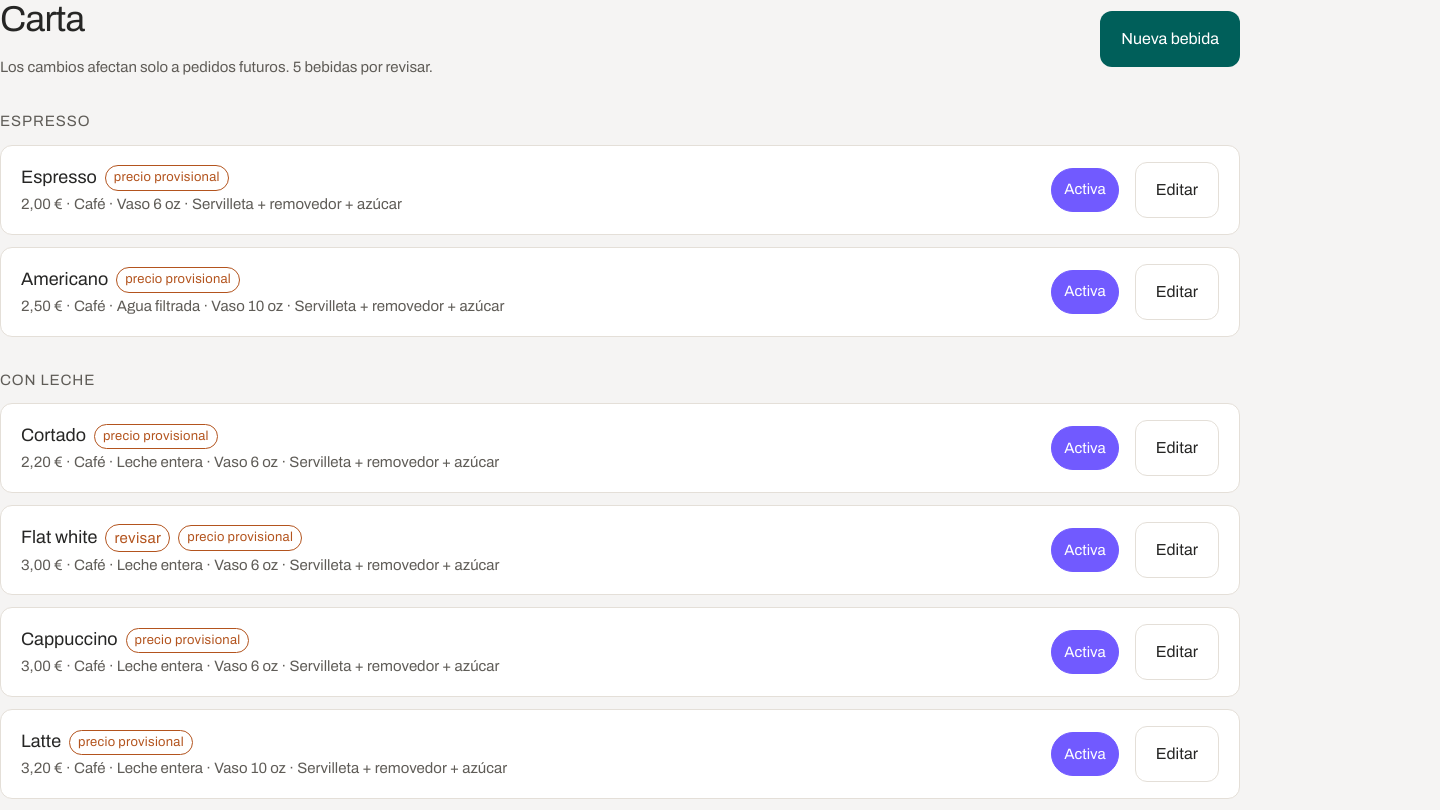
Test: Carta: la propuesta al crear una bebida › la vía sigue al método al crear, para que la hoja no se contradiga
The width and height of the screenshot is (1440, 810).
Expected: the heading "Carta" is shown, [0,0,84,39]
Click the button "Nueva bebida": (1170,39) [1100,11,1240,67]
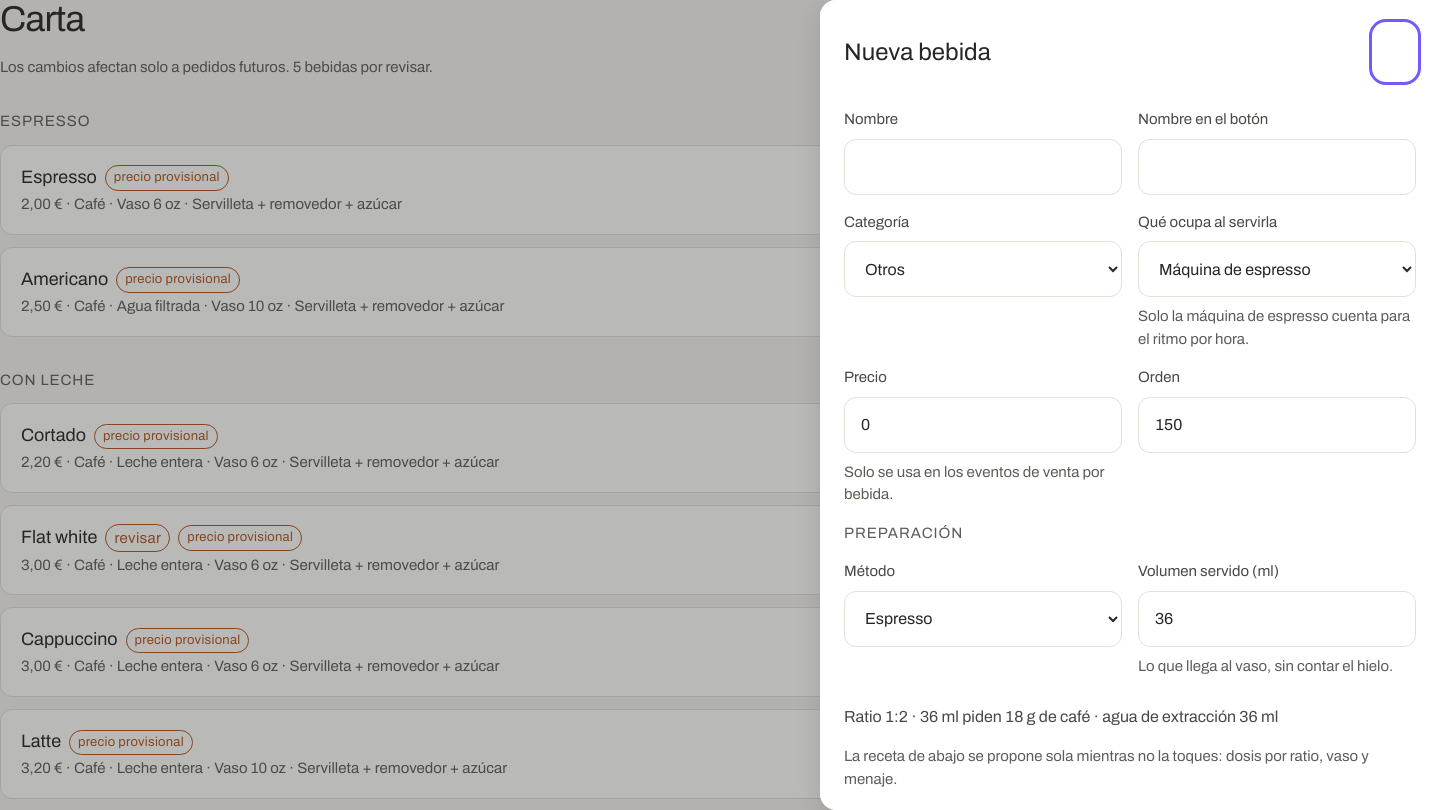
Expected: the heading "Preparación" is shown, [844,524,963,540]
Expected: the 2nd dropdown shows "Máquina de espresso", [1138,241,1416,297]
Select "Cold brew" in the dropdown labelled "Método": (983,618) [844,590,1122,646]
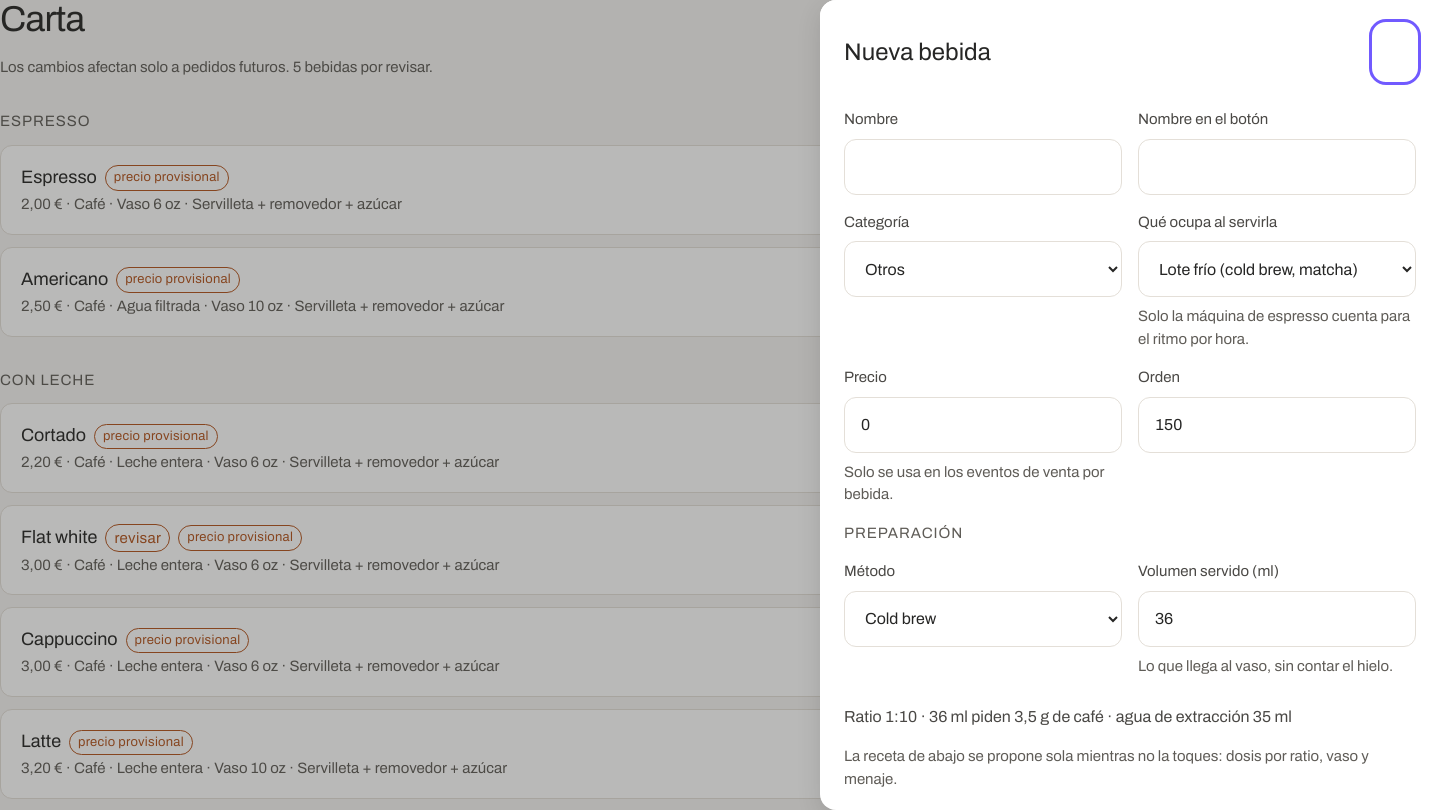
Expected: the 2nd dropdown shows "Lote frío (cold brew, matcha)"
Y en cuanto Nicolas la elige a mano, manda la suya.
Select "Máquina de espresso" in the 2nd dropdown: (1277,269) [1138,241,1416,297]
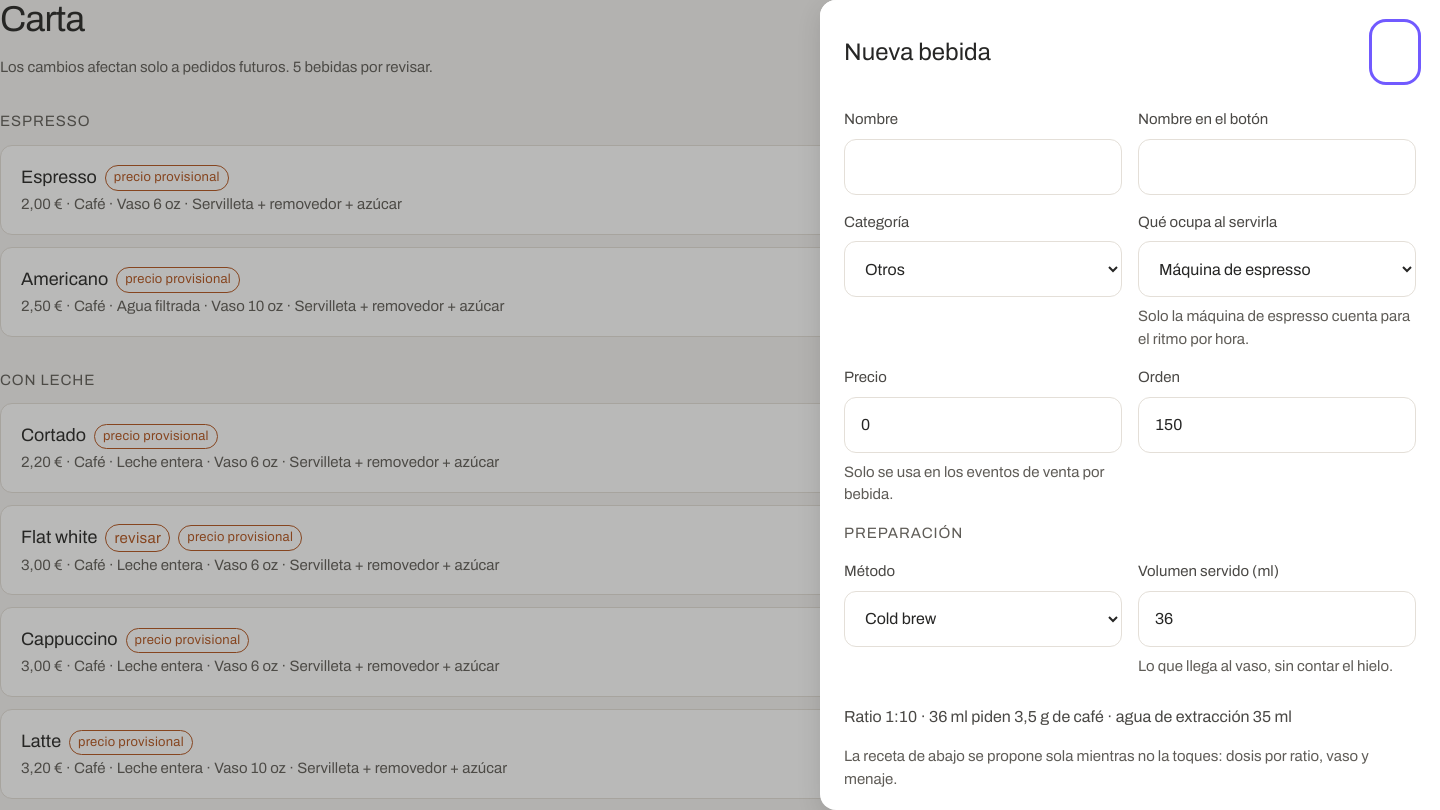
Select "Filtro (batch brew)" in the dropdown labelled "Método": (983,618) [844,590,1122,646]
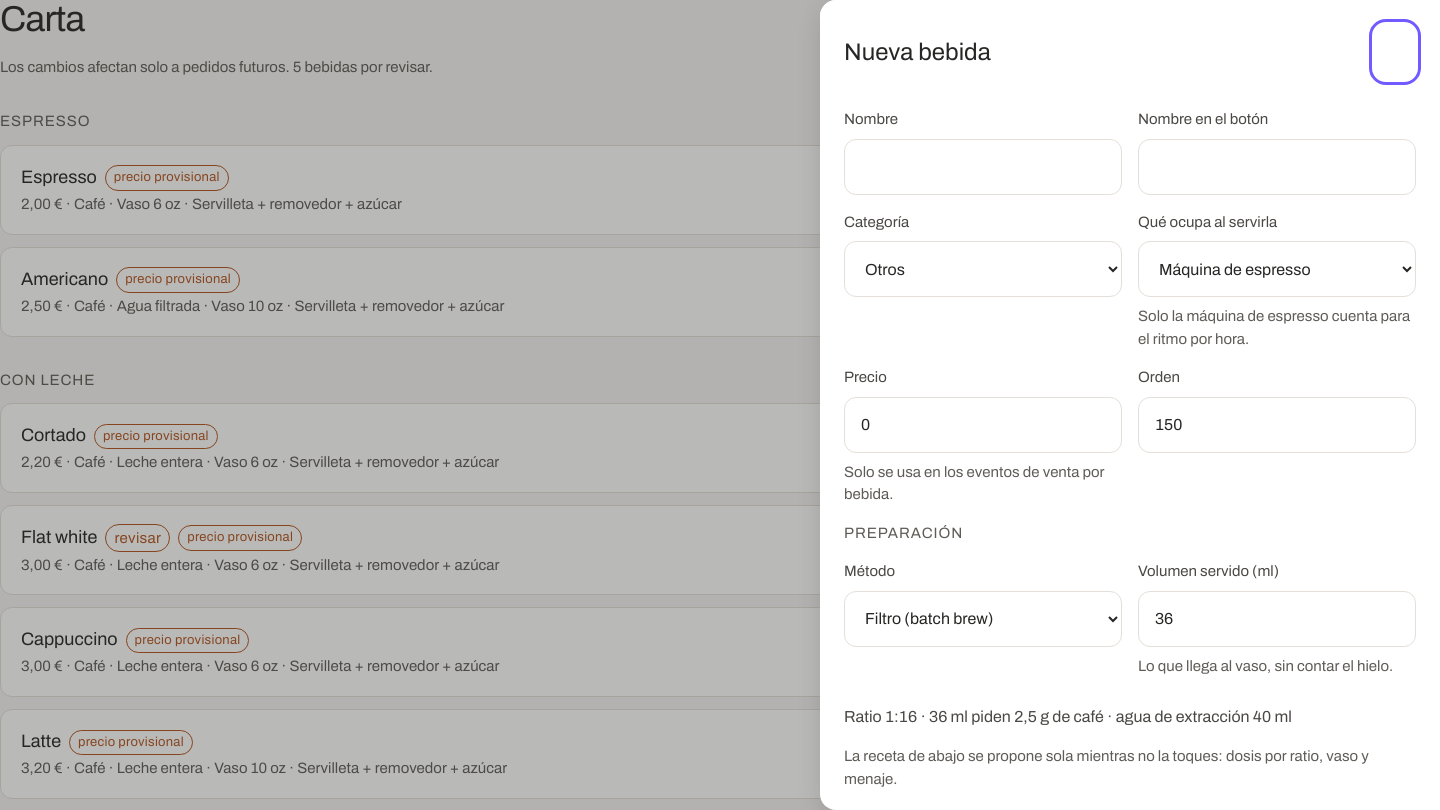
Expected: the text "Ratio 1:16" is shown, [844,708,1292,725]
